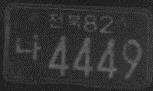2: (98, 14, 114, 34)
4: (47, 34, 70, 76), (96, 35, 118, 78), (74, 33, 93, 79)
8: (82, 12, 97, 33)
9: (122, 38, 142, 79)
나: (13, 32, 42, 62)
전북_O: (47, 11, 82, 32)
